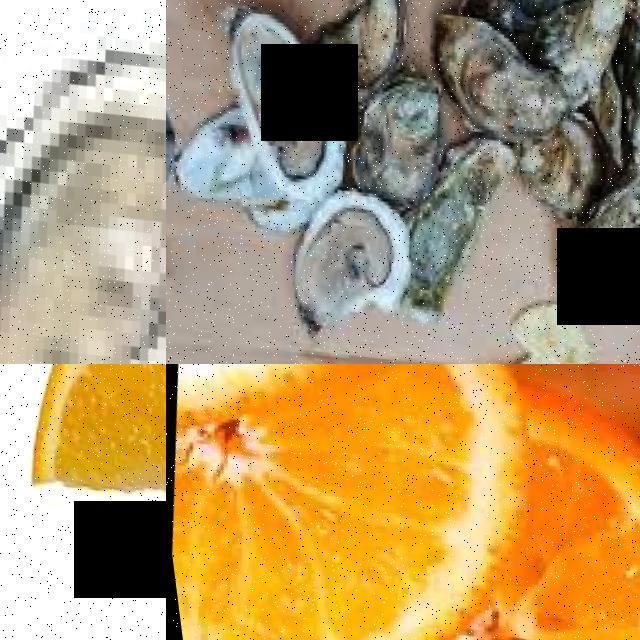orange: (166, 380, 521, 640), (436, 388, 640, 640), (0, 364, 166, 554)
oysters: (0, 17, 166, 364), (266, 186, 420, 350), (195, 9, 332, 193), (415, 16, 571, 155), (334, 74, 454, 218), (541, 155, 640, 325), (297, 0, 412, 130)
